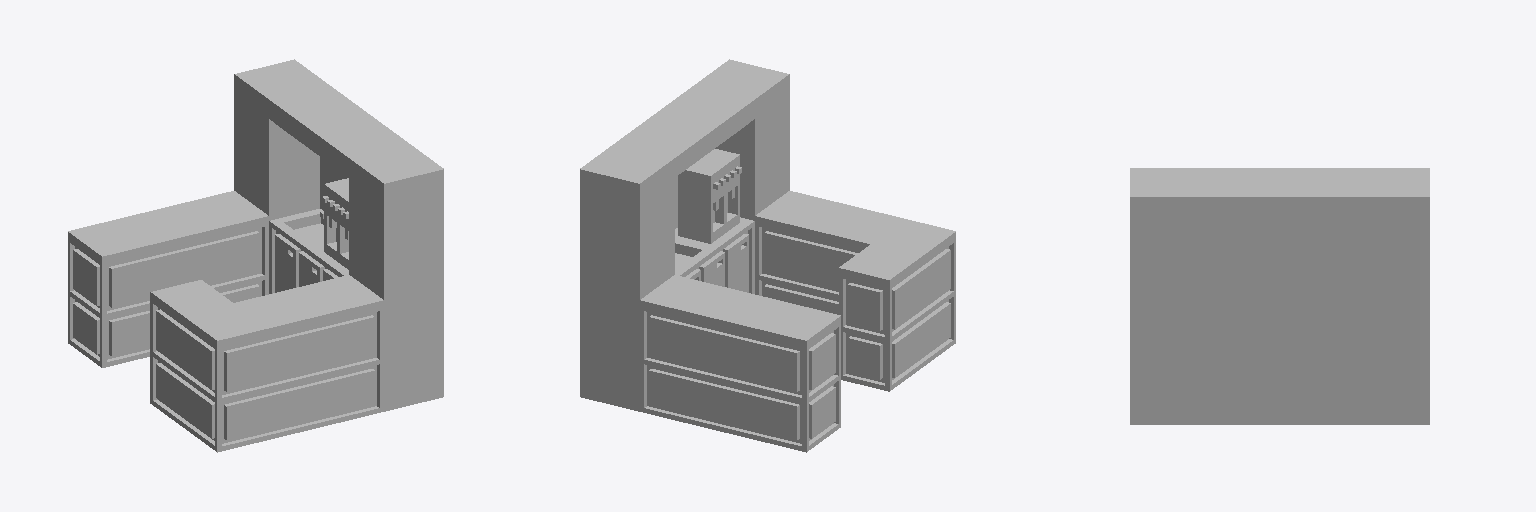
Rendered from sorveteria.obj.
3 renders of one model, left to right at view 1: azimuth 30°, elevation 25°; view 2: azimuth 150°, elevation 25°; view 3: azimuth 270°, elevation 25°, orthographic.
Parts seen in each view (by area): view 1: sorveteria; view 2: sorveteria; view 3: sorveteria.
Boxes of the visible parts, box(x1,y1,x2,y2) form: sorveteria: box(68, 59, 443, 452); sorveteria: box(580, 59, 955, 452); sorveteria: box(1130, 168, 1429, 424).
Size of the model in its own units: 49 by 47 by 56.